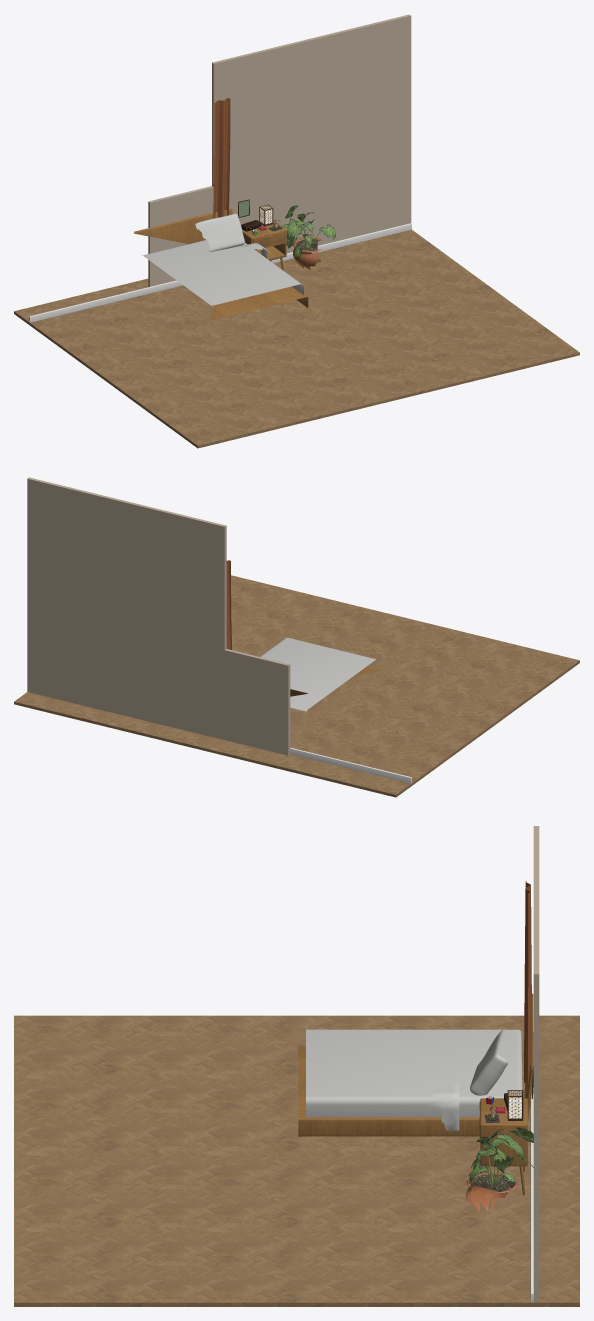
Rendered from donor.glb.
3 views of the same model, one above another, from view 1: azimuth 30°, elevation 25°; view 2: azimuth 150°, elevation 25°; view 3: azimuth 270°, elevation 25° (orthographic). The views are drawn at different scales.
Parts seen in each view (by area): view 1: Floor, WallRight, WallFar, Mattress, WallBelow, Skirting, Curtain1, potted_plant_02, BedFrame, Pillow1, Headboard, Nightstand; view 2: Floor, WallRight, WallFar, WallBelow, Mattress, Skirting, Curtain1; view 3: Floor, Mattress, BedFrame, potted_plant_02, WallFar, Nightstand, Curtain1, Pillow1, SheetFold, Skirting, WallRight.
Part boxes in pixels (x1,y1,x2,y2): Floor: (14,229,579,448); WallRight: (212,31,340,253); WallFar: (339,14,411,240); Mattress: (143,240,303,305); WallBelow: (148,186,213,287); Skirting: (29,223,411,322); Curtain1: (213,98,230,218); potted_plant_02: (282,205,335,270); BedFrame: (209,286,308,320); Pillow1: (195,213,244,251); Headboard: (134,208,232,243); Nightstand: (242,220,286,270); Floor: (14,575,579,797); WallRight: (97,494,226,739); WallFar: (27,477,98,708); WallBelow: (224,649,290,755); Mattress: (260,637,375,711); Skirting: (290,747,411,783); Curtain1: (226,560,231,649); Floor: (14,1015,579,1306); Mattress: (306,1029,522,1117); BedFrame: (298,1044,479,1136); potted_plant_02: (465,1127,533,1213); WallFar: (533,921,539,1302); Nightstand: (479,1098,527,1195); Curtain1: (524,881,532,1086); Pillow1: (470,1030,507,1095); SheetFold: (426,1079,459,1131); Skirting: (530,1007,533,1302); WallRight: (533,826,539,921).
Size of the model in its own units: 60 by 32.4 by 50.
48 materials, 11 textured.
